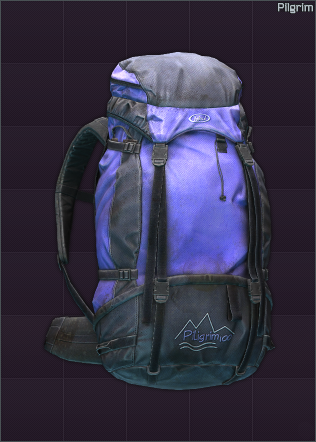Pilgrim tourist backpack: (0, 0, 316, 442)
